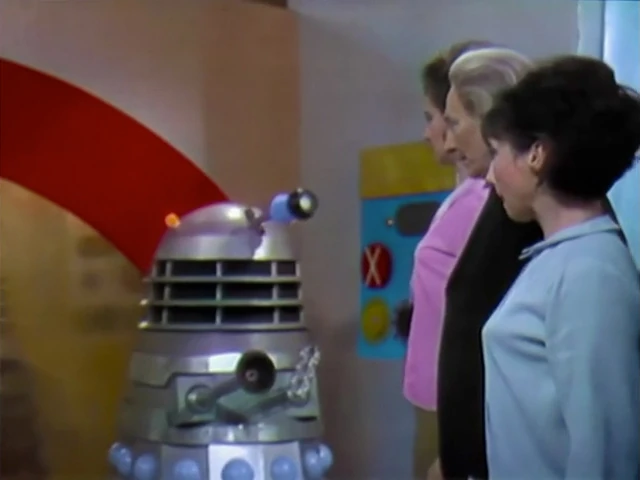Dalek: (112, 202, 337, 475)
